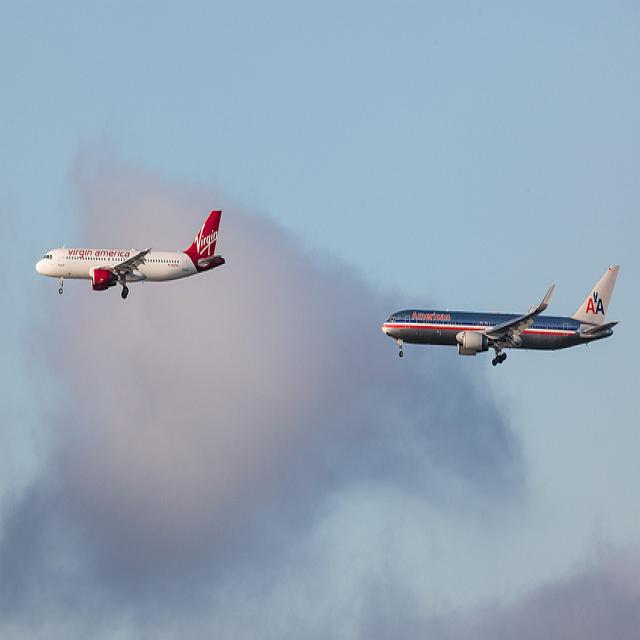airplane: (380, 261, 622, 367), (33, 208, 228, 300)
